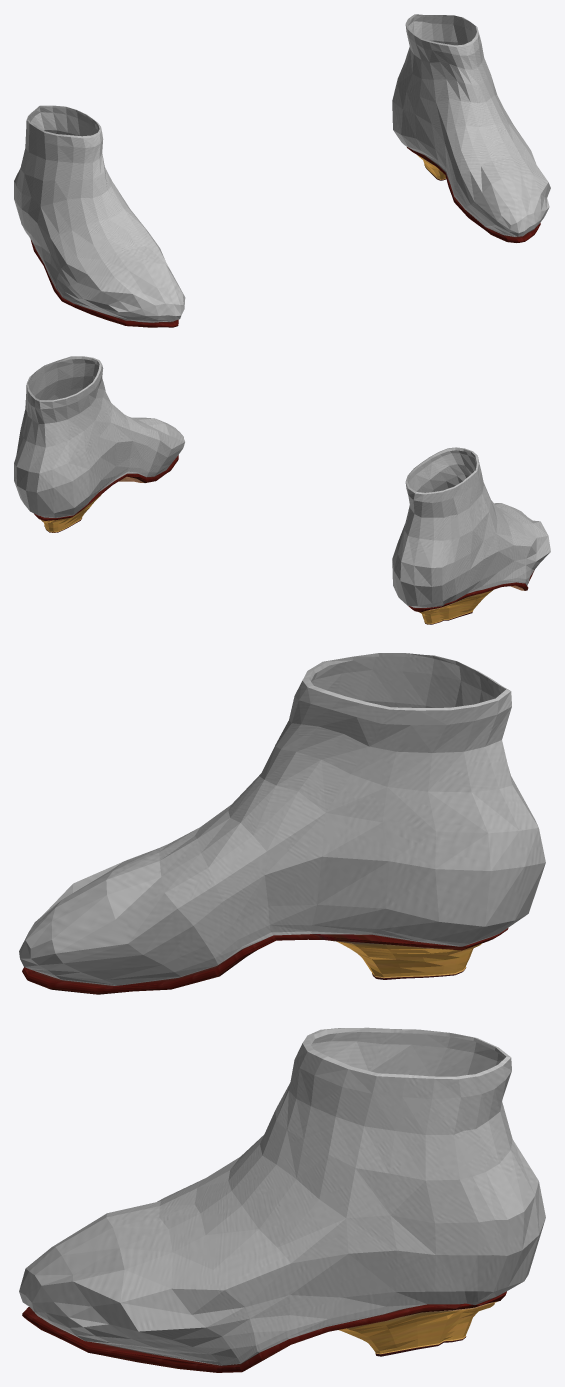
File: mhw_toigo_ankle_boots_female.glb
The picture shows the model from 3 angles, top to bottom: view 1: azimuth 30°, elevation 25°; view 2: azimuth 150°, elevation 25°; view 3: azimuth 270°, elevation 25°; orthographic projection. The views are drawn at different scales.
Visible parts, largest first — view 1: mhw_toigo_ankle_boots_female; view 2: mhw_toigo_ankle_boots_female; view 3: mhw_toigo_ankle_boots_female.
Part boxes in pixels (x1,y1,x2,y2): mhw_toigo_ankle_boots_female: (14, 14, 550, 327); mhw_toigo_ankle_boots_female: (14, 356, 550, 624); mhw_toigo_ankle_boots_female: (19, 653, 545, 1372).
Size of the model in its own units: 0.5209 by 0.1566 by 0.252.
Materials: 1 (1 with a texture image).
